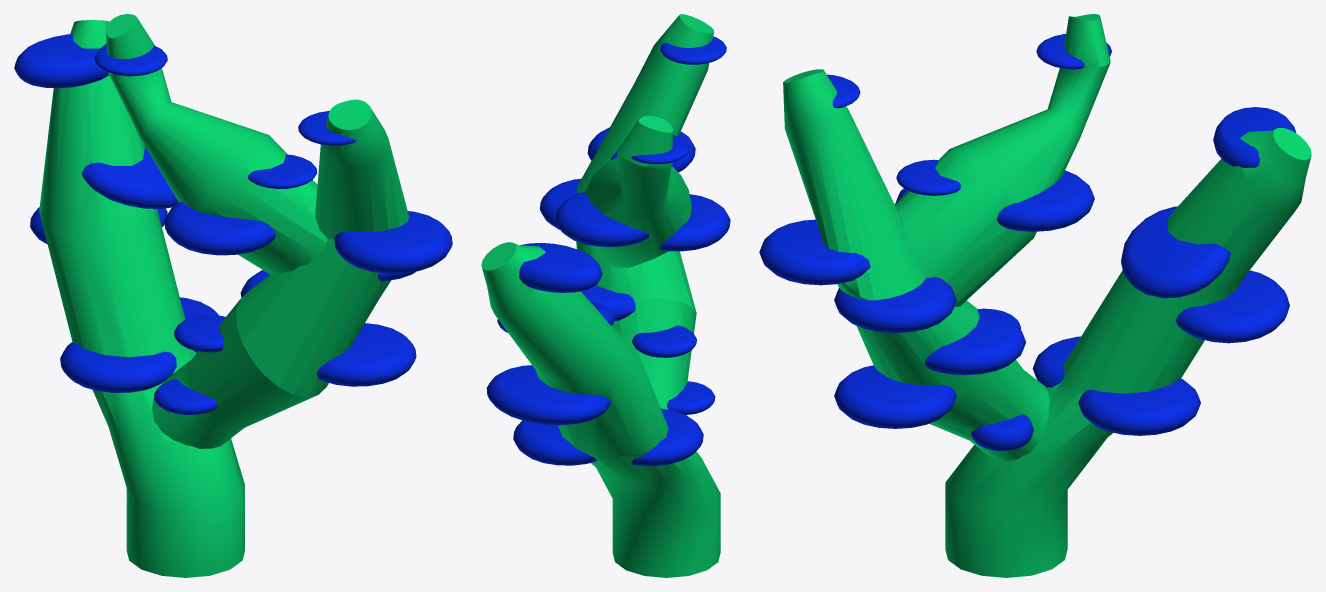
File: alientree.fbx
The picture shows the model from 3 angles, left to right: view 1: azimuth 30°, elevation 25°; view 2: azimuth 150°, elevation 25°; view 3: azimuth 270°, elevation 25°; orthographic projection. The views are drawn at different scales.
Parts seen in each view (by area): view 1: pCylinder7; view 2: pCylinder7; view 3: pCylinder7.
Part boxes in pixels (x1,y1,x2,y2): pCylinder7: (14, 14, 452, 577); pCylinder7: (481, 14, 730, 577); pCylinder7: (759, 14, 1311, 577).
Size of the model in its own units: 5.05 by 9.46 by 8.99.
